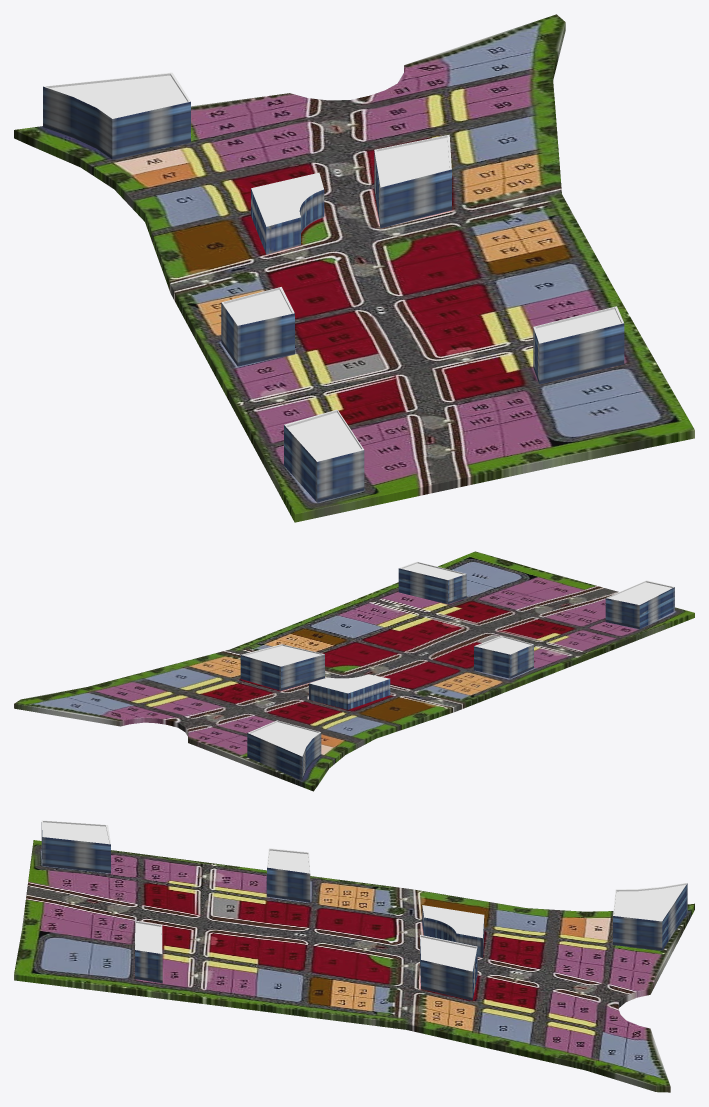
The picture shows the model from 3 angles, top to bottom: view 1: azimuth 30°, elevation 25°; view 2: azimuth 150°, elevation 25°; view 3: azimuth 270°, elevation 25°; orthographic projection. The views are drawn at different scales.
Size of the model in its own units: 25.07 by 1.68 by 29.26.
4 materials, 3 textured.
